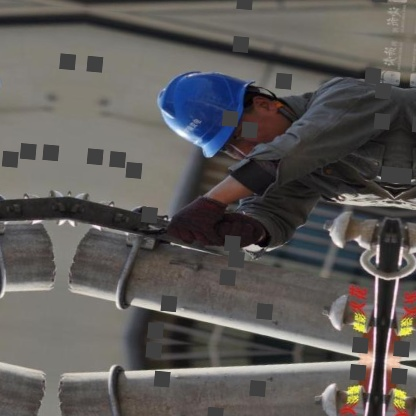blue: (148, 61, 261, 167)
